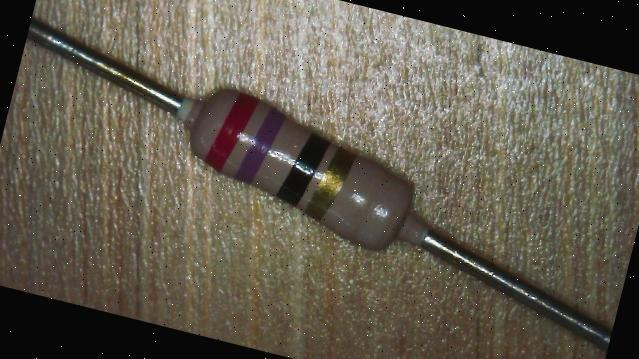black: (276, 126, 330, 208)
gold: (304, 142, 354, 222)
red: (202, 88, 257, 174)
resistor: (149, 47, 456, 282)
violet: (234, 103, 284, 187)
